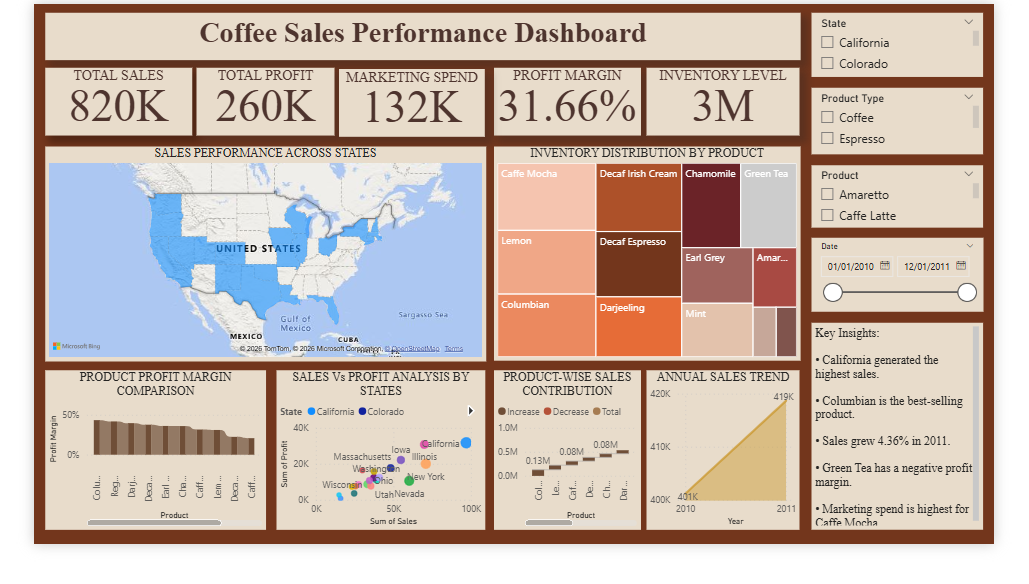

What the dashboard file says about the page in this screenshot:
{"tool":"powerbi","page":{"name":"Coffee Sales Performance Dashboard","canvas":[1280,720],"ordinal":0},"visuals":[{"type":"textbox","box":[14.3,11.4,1007.1,62.9],"z":0},{"type":"card","title":"TOTAL SALES","fields":{"Values":["fact.Total Sales"]},"box":[14.3,85.7,195.7,90],"z":1000},{"type":"card","title":"TOTAL PROFIT","fields":{"Values":["fact.Total Profit"]},"box":[217.1,85.7,184.3,90],"z":2000},{"type":"card","title":"PROFIT MARGIN","fields":{"Values":["fact.Profit Margin"]},"box":[612.9,85.7,195.7,90],"z":3000},{"type":"card","title":"MARKETING SPEND","fields":{"Values":["Sum(fact.Marketing)"]},"box":[407.1,87.1,194.3,90],"z":4000},{"type":"card","title":"INVENTORY LEVEL","fields":{"Values":["Sum(fact.Inventory)"]},"box":[817.1,85.7,204.3,90],"z":5000},{"type":"filledMap","title":"SALES PERFORMANCE ACROSS STATES","fields":{"Category":["Location.State"]},"box":[14.3,190,587.1,285.7],"z":6000},{"type":"treemap","title":"INVENTORY DISTRIBUTION BY PRODUCT","fields":{"Group":["Product.Product"],"Values":["Sum(fact.Inventory)"]},"box":[612.9,190,408.6,285.7],"z":7000},{"type":"ribbonChart","title":"PRODUCT PROFIT MARGIN COMPARISON","fields":{"Category":["Product.Product"],"Y":["fact.Profit Margin"]},"box":[14.3,488.6,294.3,212.9],"z":8000},{"type":"waterfallChart","title":"PRODUCT-WISE SALES CONTRIBUTION","fields":{"Category":["Product.Product"],"Y":["Sum(fact.Sales)"]},"box":[612.9,488.6,195.7,212.9],"z":9000},{"type":"scatterChart","title":"SALES Vs PROFIT ANALYSIS BY STATES","fields":{"X":["Sum(fact.Sales)"],"Y":["Sum(fact.Profit)"],"Series":["Location.State"],"Size":["Sum(fact.Marketing)"]},"box":[322.9,488.6,278.6,212.9],"z":10000},{"type":"areaChart","title":"ANNUAL SALES TREND","fields":{"Category":["fact.Date.Variation.Date Hierarchy.Year","fact.Date.Variation.Date Hierarchy.Quarter","fact.Date.Variation.Date Hierarchy.Month","fact.Date.Variation.Date Hierarchy.Day"],"Y":["Sum(fact.Sales)"]},"box":[817.1,488.6,204.3,212.9],"z":11000},{"type":"slicer","fields":{"Values":["Location.State"]},"box":[1037.1,11.4,228.6,85.7],"z":12000},{"type":"slicer","fields":{"Values":["Product.Product"]},"box":[1037.1,214.3,228.6,82.9],"z":13000},{"type":"slicer","fields":{"Values":["Product.Product Type"]},"box":[1037.1,111.4,228.6,88.6],"z":14000},{"type":"slicer","fields":{"Values":["fact.Date"]},"box":[1037.1,311.4,228.6,98.6],"z":15000},{"type":"textbox","box":[1037.1,425.7,228.6,275.7],"z":16000}]}

Visuals, with their boxes in screenshot pixels (x1, y1, x2, y2), scaled from the page's 1280x720 canvas onto the 1029x584 screenshot:
textbox: (11, 9, 821, 60)
"TOTAL SALES" card: (11, 70, 169, 143)
"TOTAL PROFIT" card: (175, 70, 323, 143)
"PROFIT MARGIN" card: (493, 70, 650, 143)
"MARKETING SPEND" card: (327, 71, 483, 144)
"INVENTORY LEVEL" card: (657, 70, 821, 143)
"SALES PERFORMANCE ACROSS STATES" filledMap: (11, 154, 483, 386)
"INVENTORY DISTRIBUTION BY PRODUCT" treemap: (493, 154, 821, 386)
"PRODUCT PROFIT MARGIN COMPARISON" ribbonChart: (11, 396, 248, 569)
"PRODUCT-WISE SALES CONTRIBUTION" waterfallChart: (493, 396, 650, 569)
"SALES Vs PROFIT ANALYSIS BY STATES" scatterChart: (260, 396, 484, 569)
"ANNUAL SALES TREND" areaChart: (657, 396, 821, 569)
slicer - Location.State: (834, 9, 1018, 79)
slicer - Product.Product: (834, 174, 1018, 241)
slicer - Product.Product Type: (834, 90, 1018, 162)
slicer - fact.Date: (834, 253, 1018, 333)
textbox: (834, 345, 1018, 569)
